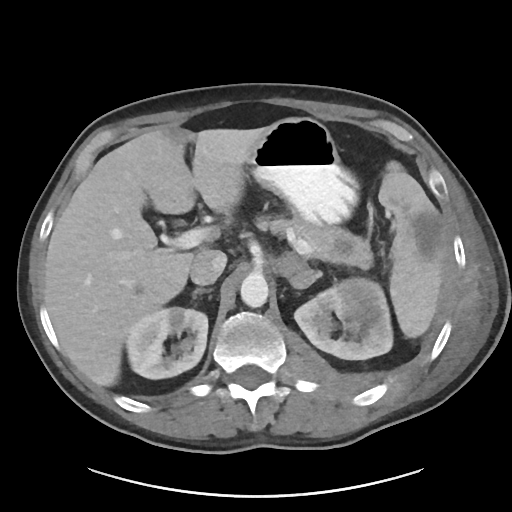Lesion: (332, 276, 393, 339)
